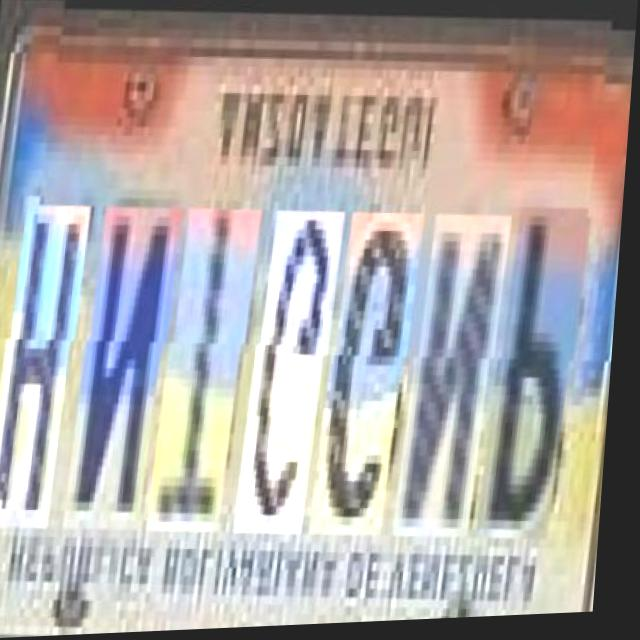g: (320, 208, 422, 536), (243, 207, 344, 535)
h: (0, 202, 89, 530)
n: (73, 204, 181, 532), (402, 209, 510, 537)
p: (486, 202, 592, 538)
t: (156, 205, 260, 533)
